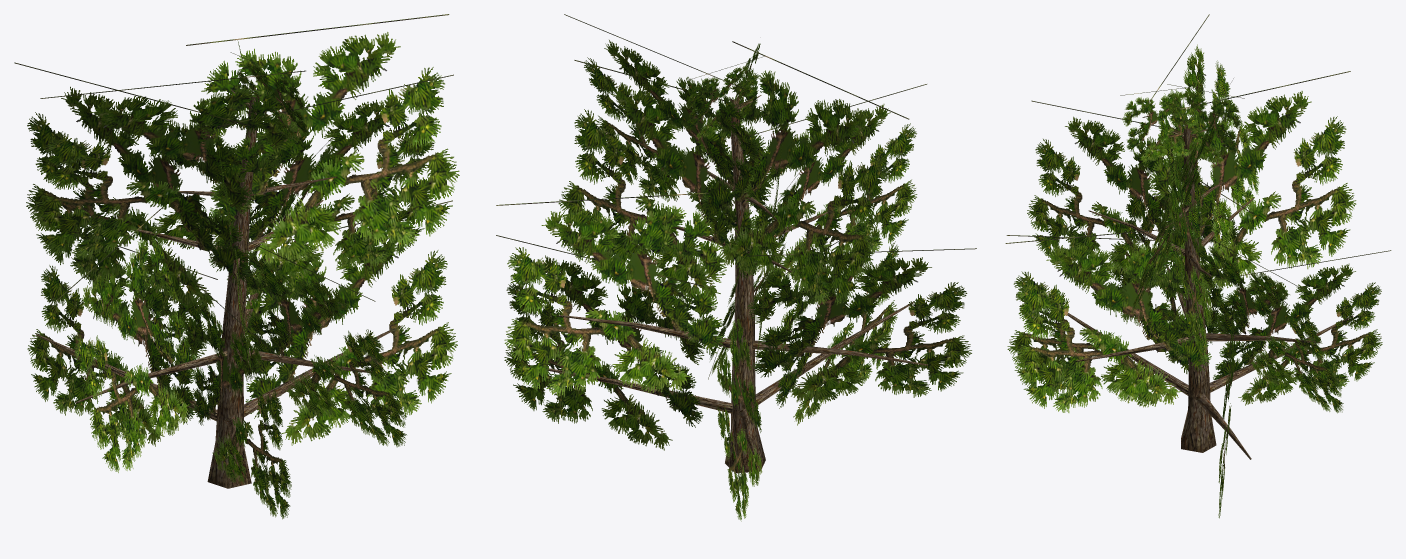
The model's file is pine_small_lod2.glb.
The picture shows the model from 3 angles, left to right: view 1: azimuth 30°, elevation 25°; view 2: azimuth 150°, elevation 25°; view 3: azimuth 270°, elevation 25°; orthographic projection. The views are drawn at different scales.
Parts seen in each view (by area): view 1: pine_small_lod2; view 2: pine_small_lod2; view 3: pine_small_lod2.
Part boxes in pixels (x1=…): pine_small_lod2: x1=14, y1=14, x2=459, y2=519; pine_small_lod2: x1=496, y1=14, x2=976, y2=521; pine_small_lod2: x1=1005, y1=14, x2=1391, y2=518.
Bounding box in the file's own units: 7.95 × 7.1 × 6.89.
2 materials, 2 textured.
